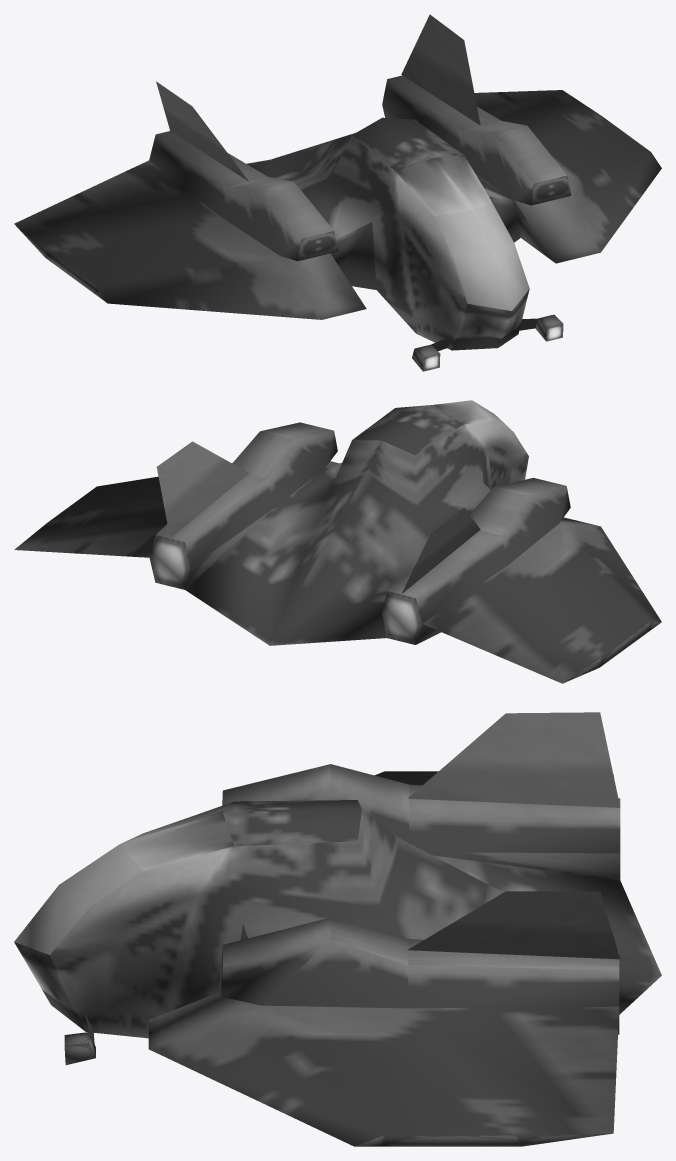
Rendered from warden.glb.
The picture shows the model from 3 angles, top to bottom: view 1: azimuth 30°, elevation 25°; view 2: azimuth 150°, elevation 25°; view 3: azimuth 270°, elevation 25°; orthographic projection. The views are drawn at different scales.
Parts seen in each view (by area): view 1: root; view 2: root; view 3: root.
Boxes of the visible parts, x1=… form: root: x1=14, y1=14, x2=661, y2=371; root: x1=14, y1=400, x2=661, y2=683; root: x1=14, y1=712, x2=661, y2=1146.
Size of the model in its own units: 1.49 by 0.416 by 1.13.
Materials: 1 (1 with a texture image).
